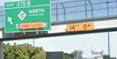0: (82, 24, 87, 31)
1: (68, 24, 72, 31)
4: (70, 24, 76, 31)
overheadsign: (66, 23, 95, 32)
